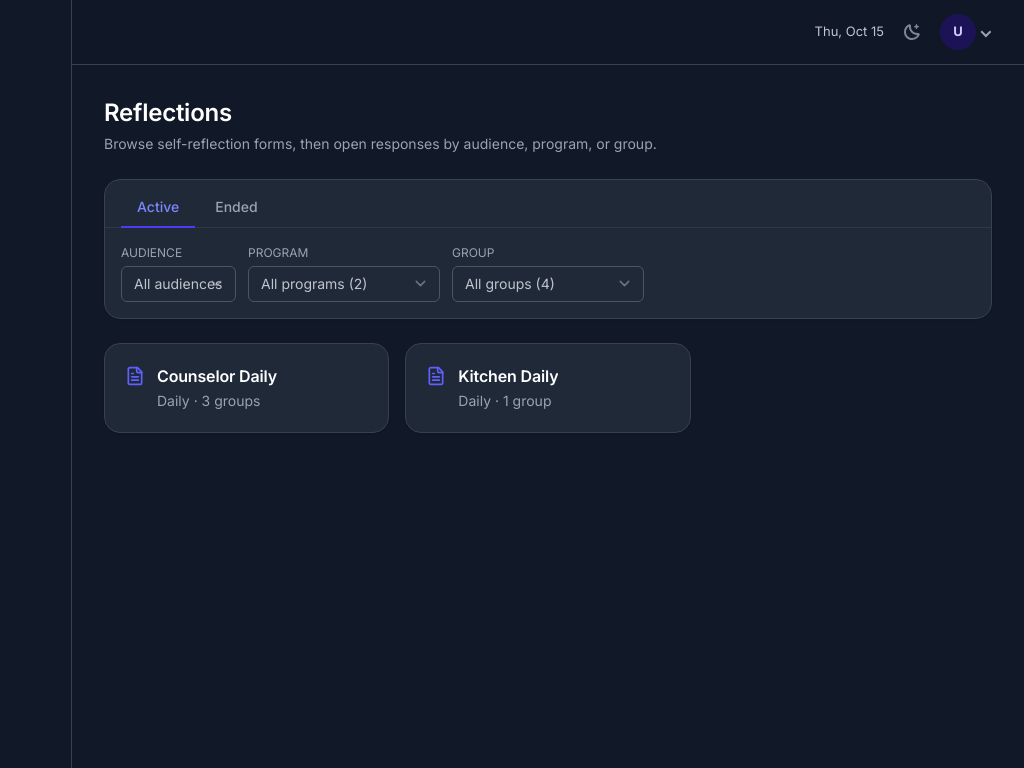
Test case: ReflectionsDashboardPage › filters tiles by program
Check: the element with test id "reflections-form-tiles" is shown, box [104, 343, 691, 433]
Select "Winter 2026" in the dropdown named "Filter by program" at (344, 284), box [248, 266, 440, 302]
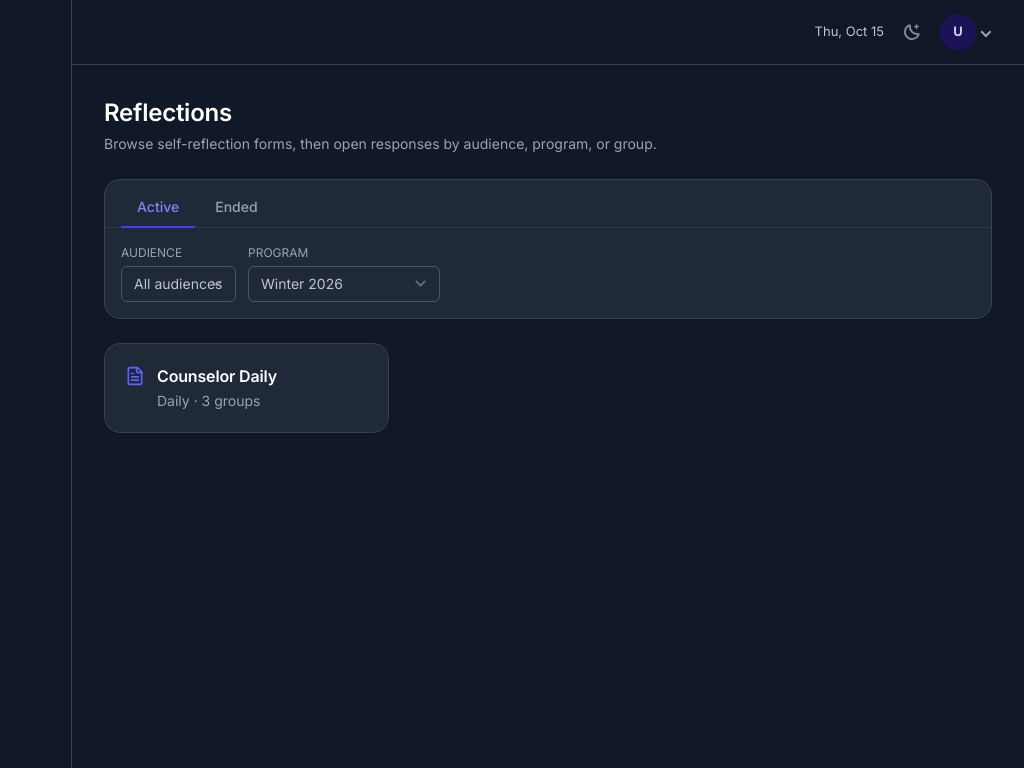
Check: the link with test id "reflections-form-tile-10" is shown, box [104, 343, 389, 433]
Check: the link with test id "reflections-form-tile-20" is gone
